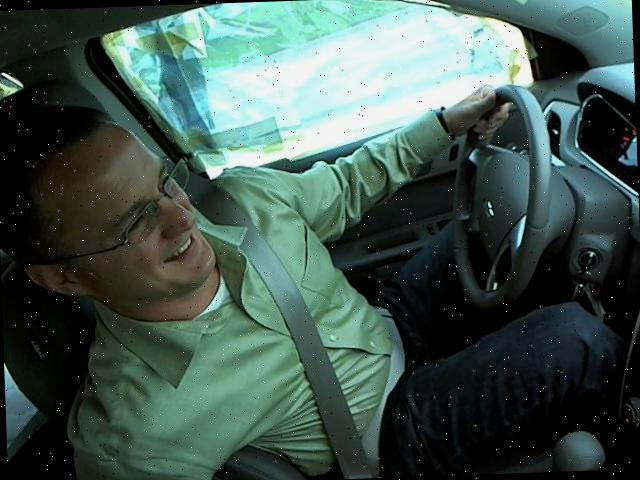c5 - Reaching Behind: (0, 76, 565, 479)
